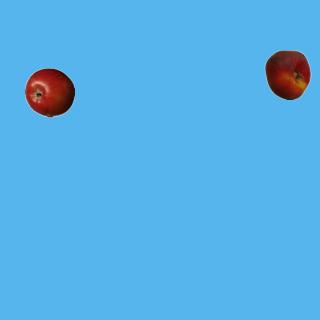Apple Braeburn: (24, 67, 74, 117)
Nectarine Flat: (262, 49, 312, 99)
